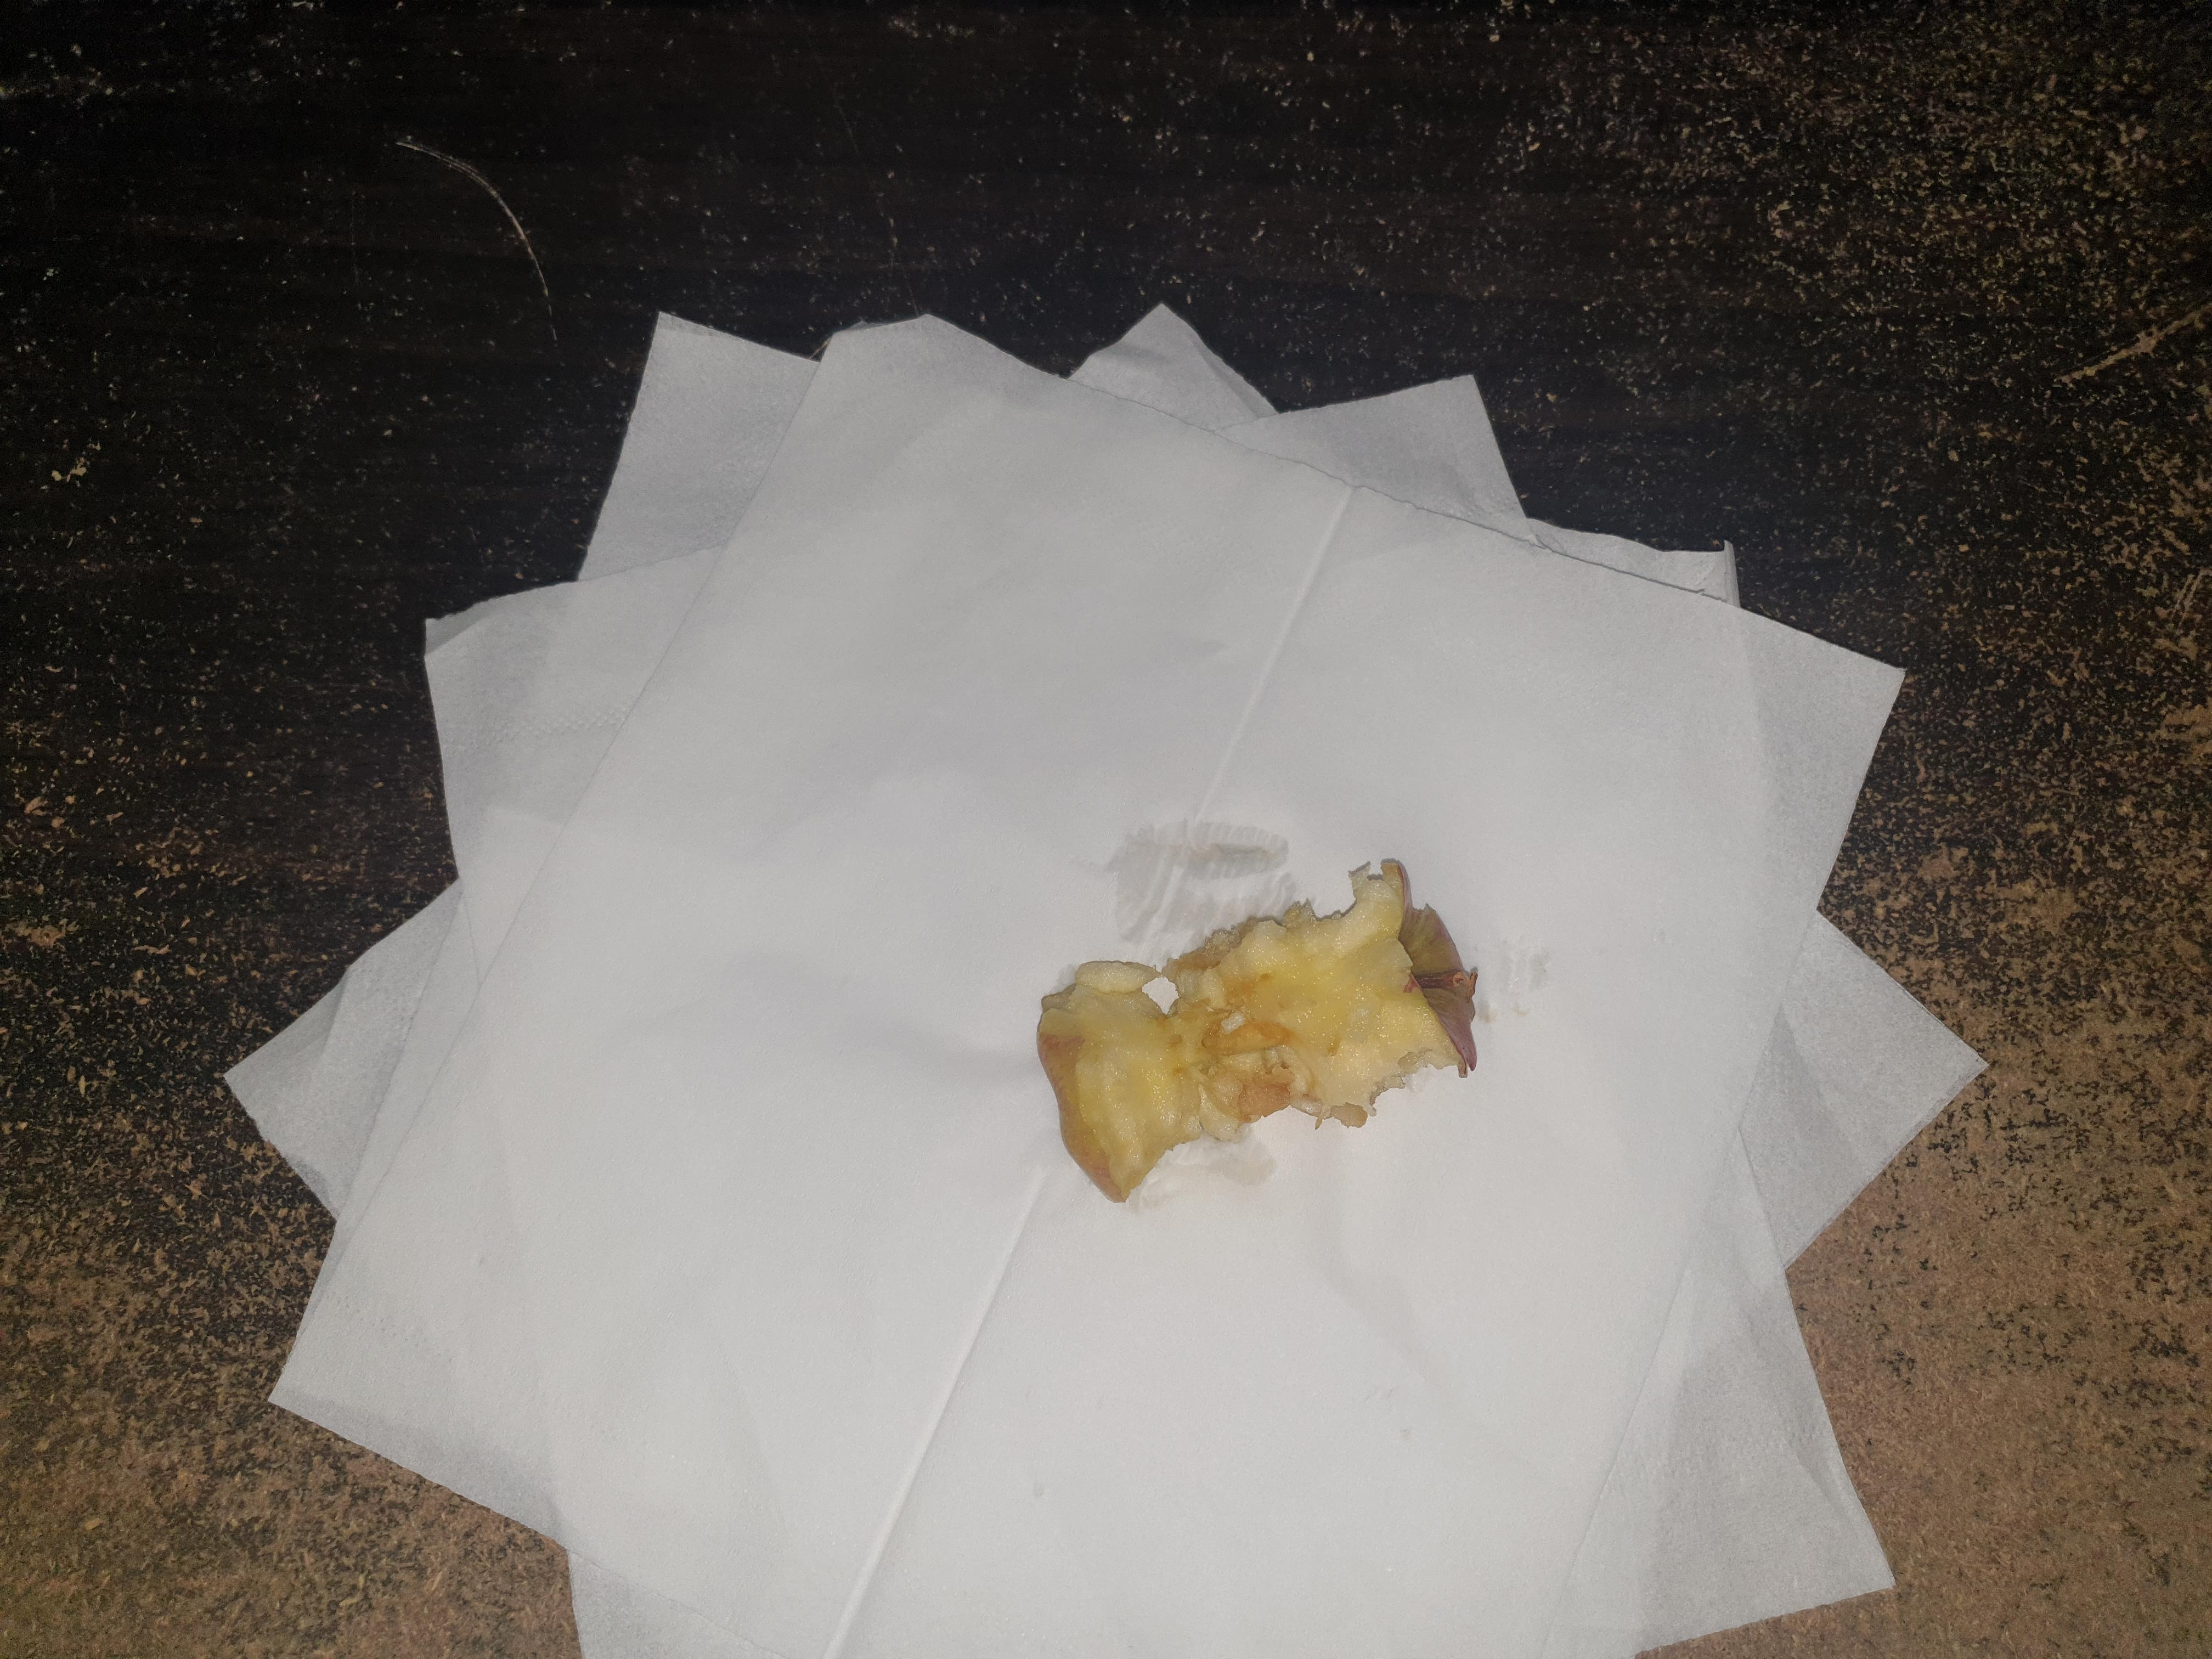Apple: (1008, 859, 1534, 1206)
